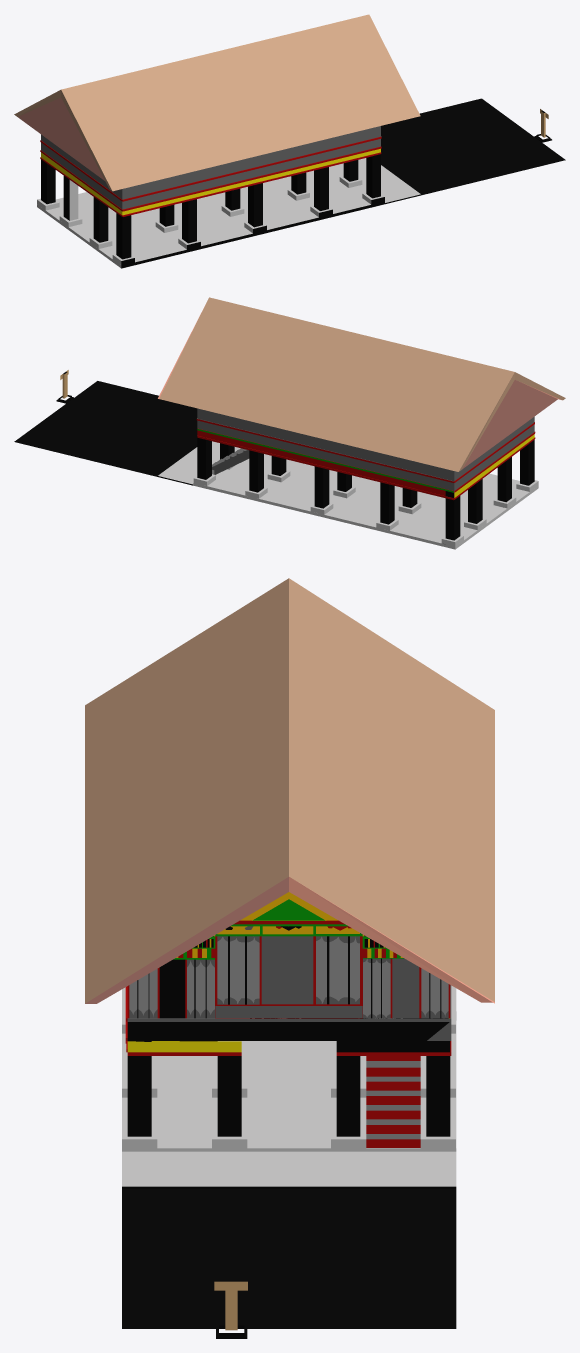
The picture shows the model from 3 angles, top to bottom: view 1: azimuth 30°, elevation 25°; view 2: azimuth 150°, elevation 25°; view 3: azimuth 270°, elevation 25°; orthographic projection. The views are drawn at different scales.
Parts seen in each view (by area): view 1: imagetostl_mesh757, imagetostl_mesh543, imagetostl_mesh434, imagetostl_mesh241, imagetostl_mesh240, imagetostl_mesh513, imagetostl_mesh371, imagetostl_mesh517, imagetostl_mesh373, imagetostl_mesh89, imagetostl_mesh577, imagetostl_mesh1002 (+12 smaller); view 2: imagetostl_mesh716, imagetostl_mesh543, imagetostl_mesh241, imagetostl_mesh434, imagetostl_mesh240, imagetostl_mesh516, imagetostl_mesh371, imagetostl_mesh514, imagetostl_mesh1223, imagetostl_mesh400, imagetostl_mesh373, imagetostl_mesh577 (+13 smaller); view 3: imagetostl_mesh757, imagetostl_mesh716, imagetostl_mesh241, imagetostl_mesh543, imagetostl_mesh434, imagetostl_mesh373, imagetostl_mesh240, imagetostl_mesh959, imagetostl_mesh393, imagetostl_mesh452, imagetostl_mesh456, imagetostl_mesh469 (+13 smaller).
Boxes of the visible parts, x1,y1,x2,y2 form: imagetostl_mesh757: [61, 14, 420, 191]; imagetostl_mesh543: [46, 165, 370, 262]; imagetostl_mesh434: [391, 137, 565, 195]; imagetostl_mesh241: [381, 98, 512, 153]; imagetostl_mesh240: [381, 121, 533, 171]; imagetostl_mesh513: [122, 126, 380, 199]; imagetostl_mesh371: [18, 97, 104, 180]; imagetostl_mesh517: [122, 139, 380, 209]; imagetostl_mesh373: [336, 158, 420, 202]; imagetostl_mesh89: [121, 203, 384, 268]; imagetostl_mesh577: [41, 142, 122, 208]; imagetostl_mesh1002: [123, 137, 381, 201]; imagetostl_mesh716: [159, 297, 509, 471]; imagetostl_mesh543: [207, 448, 529, 543]; imagetostl_mesh241: [14, 419, 187, 476]; imagetostl_mesh434: [66, 381, 197, 435]; imagetostl_mesh240: [46, 403, 197, 453]; imagetostl_mesh516: [197, 408, 454, 481]; imagetostl_mesh371: [462, 380, 557, 469]; imagetostl_mesh514: [197, 420, 454, 490]; imagetostl_mesh1223: [197, 430, 445, 495]; imagetostl_mesh400: [193, 483, 455, 549]; imagetostl_mesh373: [158, 441, 240, 484]; imagetostl_mesh577: [454, 424, 534, 490]; imagetostl_mesh757: [85, 578, 288, 1003]; imagetostl_mesh716: [289, 583, 494, 1001]; imagetostl_mesh241: [331, 1189, 456, 1328]; imagetostl_mesh543: [122, 985, 456, 1148]; imagetostl_mesh434: [122, 1189, 247, 1328]; imagetostl_mesh373: [122, 1151, 456, 1186]; imagetostl_mesh240: [247, 1189, 330, 1328]; imagetostl_mesh959: [261, 936, 313, 1004]; imagetostl_mesh393: [85, 877, 288, 1003]; imagetostl_mesh452: [127, 1041, 151, 1136]; imagetostl_mesh456: [217, 1056, 241, 1136]; imagetostl_mesh469: [336, 1056, 360, 1136].
Bounding box in the file's own units: 85440 × 26354 × 32360.
